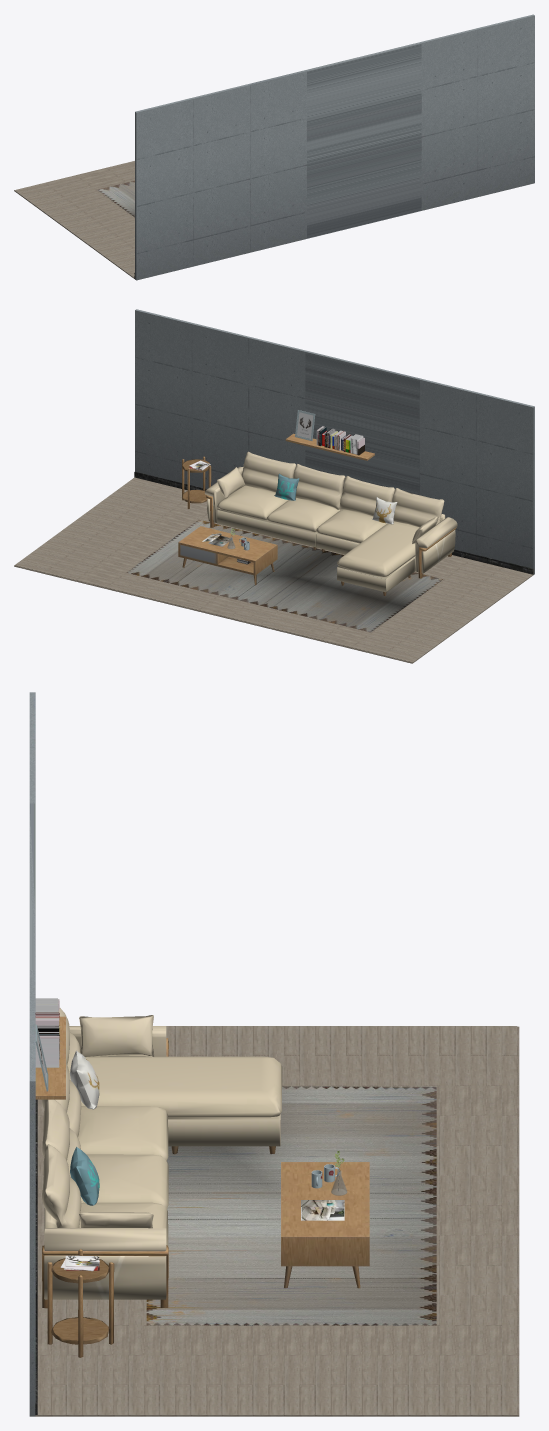
The model's file is sofa_combination-transformed.glb.
The picture shows the model from 3 angles, top to bottom: view 1: azimuth 30°, elevation 25°; view 2: azimuth 150°, elevation 25°; view 3: azimuth 270°, elevation 25°; orthographic projection. The views are drawn at different scales.
Parts seen in each view (by area): view 1: sofa_6; view 2: sofa_6, sofa_4, sofa_2, sofa_10; view 3: sofa_6, sofa_4, sofa_2, sofa_10.
Boxes of the visible parts, box(x1,y1,x2,y2) form: sofa_6: box(14, 14, 534, 280); sofa_6: box(14, 309, 534, 663); sofa_4: box(189, 451, 444, 576); sofa_2: box(134, 433, 533, 595); sofa_10: box(239, 426, 364, 550); sofa_6: box(29, 692, 519, 1416); sofa_4: box(41, 1008, 344, 1271); sofa_2: box(35, 1016, 369, 1414); sofa_10: box(35, 998, 339, 1188).
Size of the model in its own units: 622 by 250 by 331.
5 materials, 5 textured.
